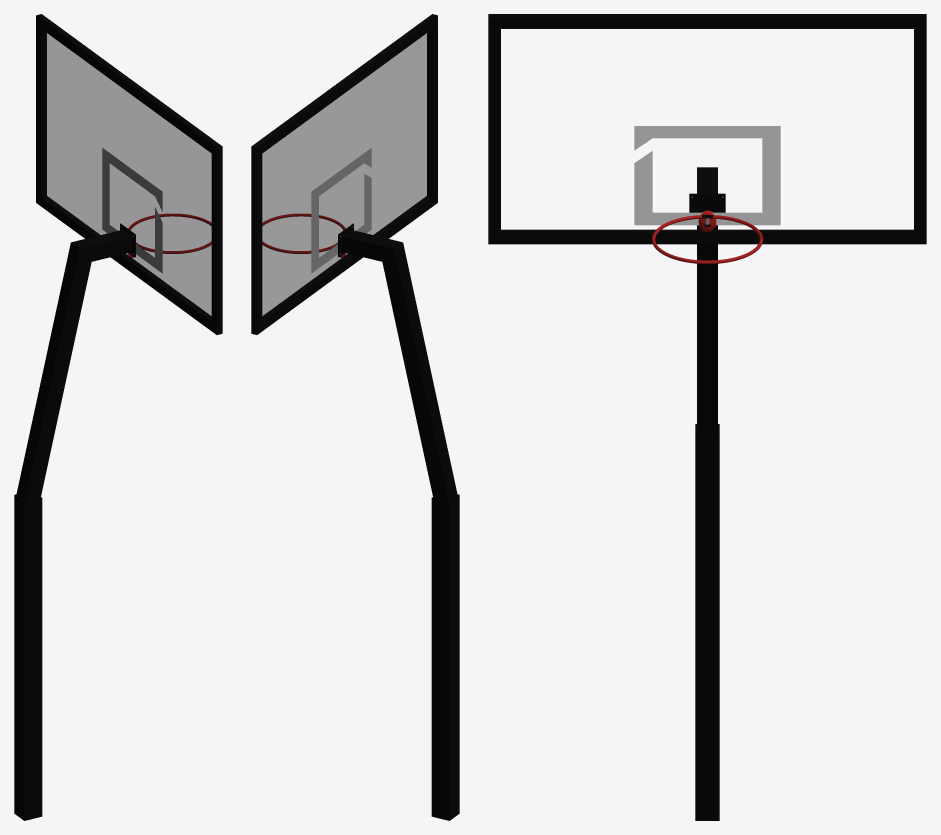
The model's file is hoop.fbx.
The picture shows the model from 3 angles, left to right: view 1: azimuth 30°, elevation 25°; view 2: azimuth 150°, elevation 25°; view 3: azimuth 270°, elevation 25°; orthographic projection. The views are drawn at different scales.
Parts seen in each view (by area): view 1: polySurface2; view 2: polySurface2; view 3: polySurface2.
Boxes of the visible parts, x1,y1,x2,y2 form: polySurface2: [14, 14, 222, 820]; polySurface2: [251, 14, 459, 820]; polySurface2: [488, 14, 926, 820].
Size of the model in its own units: 12.06 by 42.31 by 19.56.
